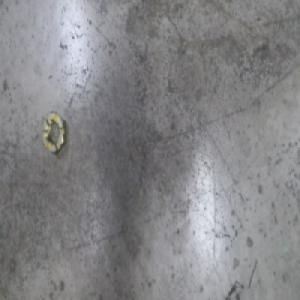Nut: (39, 108, 68, 156)
